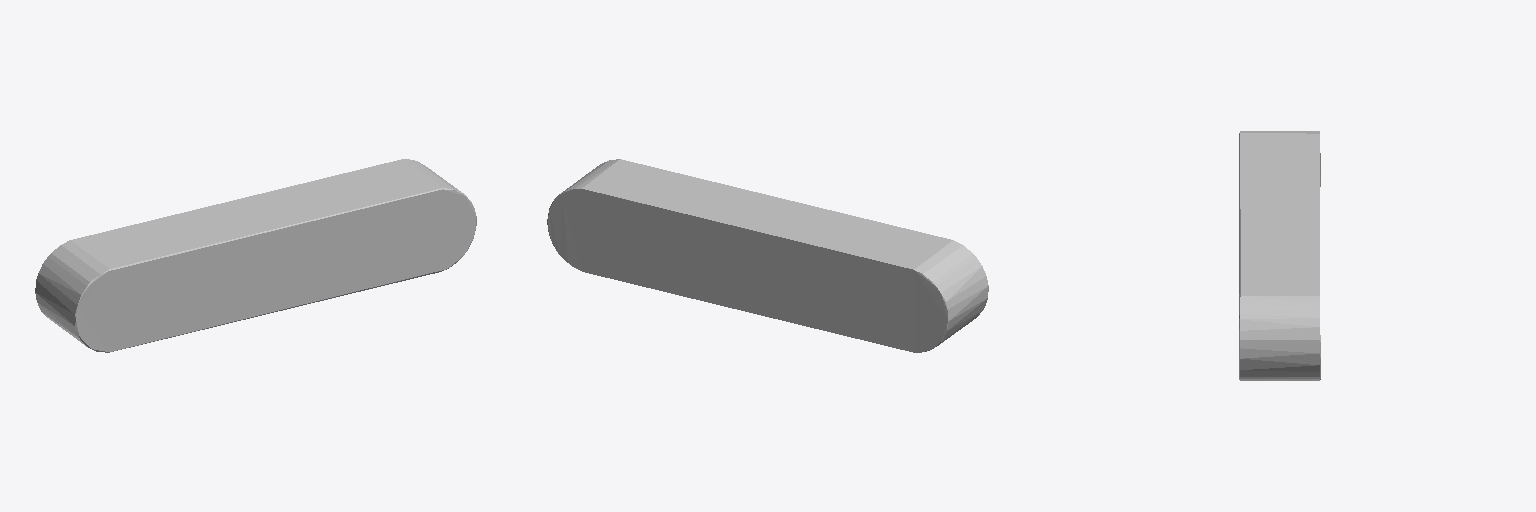
File: key under the impeller.obj
The picture shows the model from 3 angles: view 1: azimuth 30°, elevation 25°; view 2: azimuth 150°, elevation 25°; view 3: azimuth 270°, elevation 25°; orthographic projection.
Visible parts, largest first — view 1: imagetostl_mesh; view 2: imagetostl_mesh; view 3: imagetostl_mesh.
Boxes of the visible parts, x1=… form: imagetostl_mesh: x1=35, y1=159, x2=476, y2=352; imagetostl_mesh: x1=547, y1=159, x2=988, y2=352; imagetostl_mesh: x1=1239, y1=131, x2=1320, y2=380.
Bounding box in the file's own units: 40 × 7.94 × 6.99.